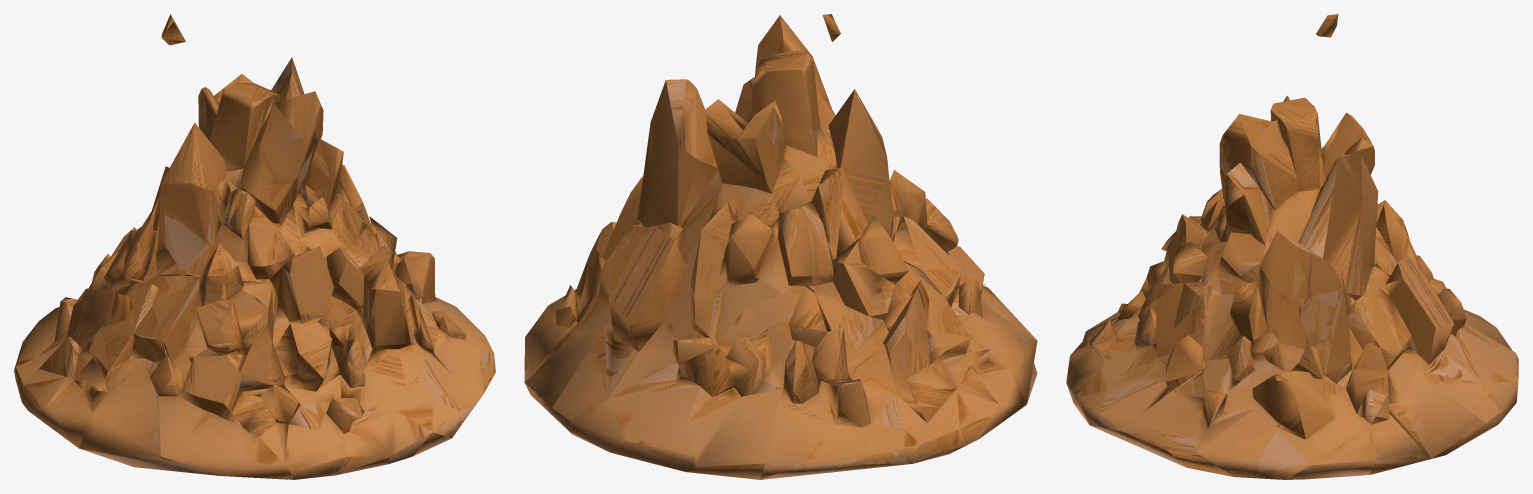
File: cover_half_ruins_v6.glb
3 renders of one model, left to right at view 1: azimuth 30°, elevation 25°; view 2: azimuth 150°, elevation 25°; view 3: azimuth 270°, elevation 25°, orthographic. The views are drawn at different scales.
Parts seen in each view (by area): view 1: Mesh_0; view 2: Mesh_0; view 3: Mesh_0.
Part boxes in pixels (<box>): Mesh_0: <box>14,14,495,479</box>; Mesh_0: <box>524,14,1037,479</box>; Mesh_0: <box>1066,14,1518,479</box>.
Bounding box in the file's own units: 0.9477 × 0.7965 × 0.9508.
1 material, 1 textured.
